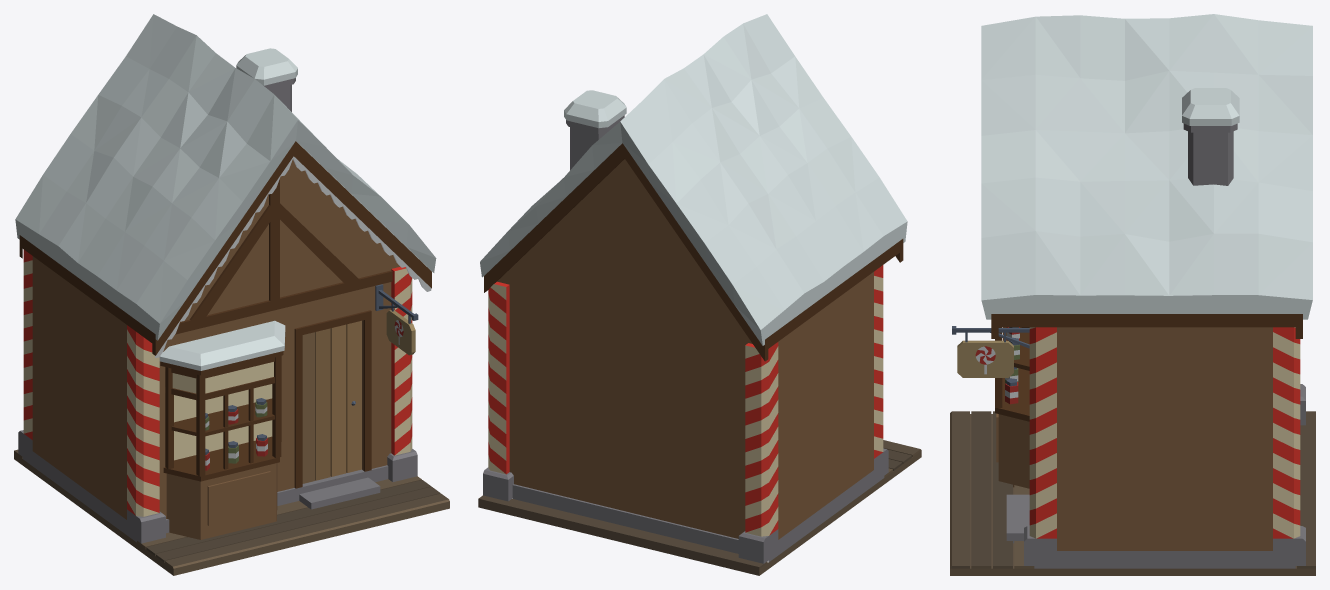
The model's file is candy-shop-39a917.glb.
3 renders of one model, left to right at view 1: azimuth 30°, elevation 25°; view 2: azimuth 150°, elevation 25°; view 3: azimuth 270°, elevation 25°, orthographic. The views are drawn at different scales.
Parts seen in each view (by area): view 1: candy-shop-body, door-leaf, sign-board; view 2: candy-shop-body; view 3: candy-shop-body, sign-board.
Boxes of the visible parts, x1,y1,x2,y2 form: candy-shop-body: (14, 14, 449, 575); door-leaf: (302, 320, 361, 483); sign-board: (386, 303, 415, 355); candy-shop-body: (478, 14, 921, 575); candy-shop-body: (950, 14, 1315, 575); sign-board: (957, 332, 1013, 377).
Size of the model in its own units: 4 by 5.85 by 4.
